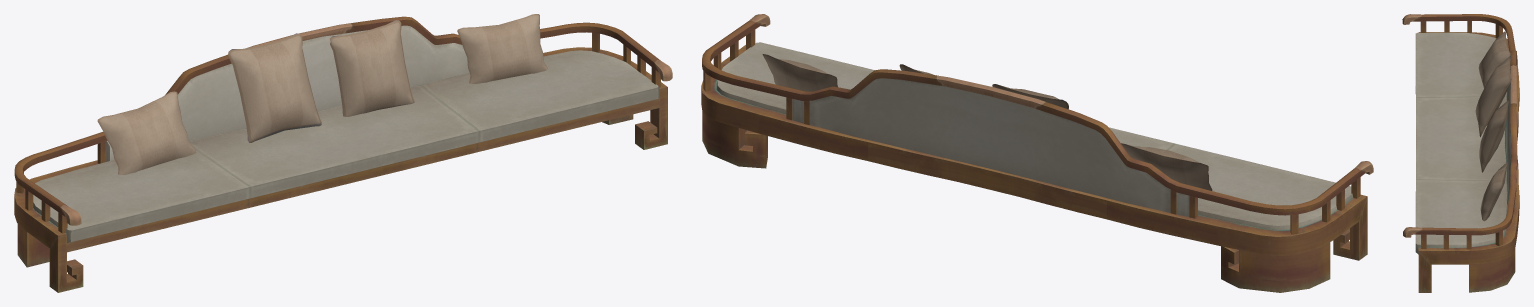
The model's file is mt_dj_chair_01.fbx.
3 views of the same model, side by side, from view 1: azimuth 30°, elevation 25°; view 2: azimuth 150°, elevation 25°; view 3: azimuth 270°, elevation 25° (orthographic). The views are drawn at different scales.
Parts seen in each view (by area): view 1: mt_dj_chair_01; view 2: mt_dj_chair_01; view 3: mt_dj_chair_01.
Boxes of the visible parts, x1,y1,x2,y2 form: mt_dj_chair_01: (14, 14, 672, 292); mt_dj_chair_01: (701, 14, 1373, 292); mt_dj_chair_01: (1402, 14, 1519, 292).
Bounding box in the file's own units: 516 × 113 × 116.
